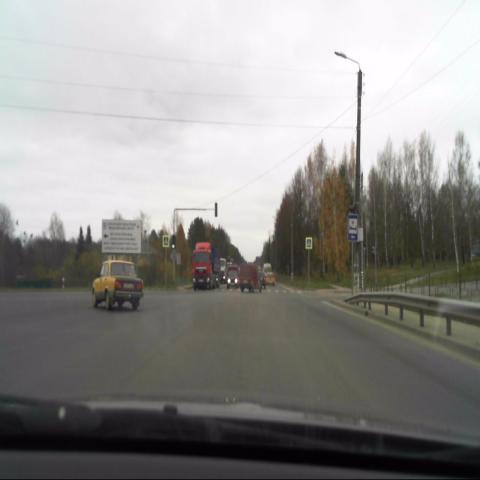7_2: (348, 214, 358, 241)
